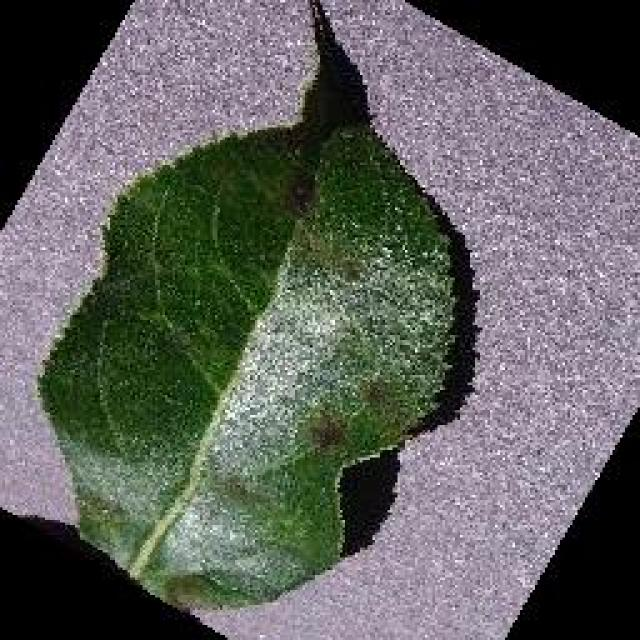apple scab disease: (34, 0, 477, 612)
